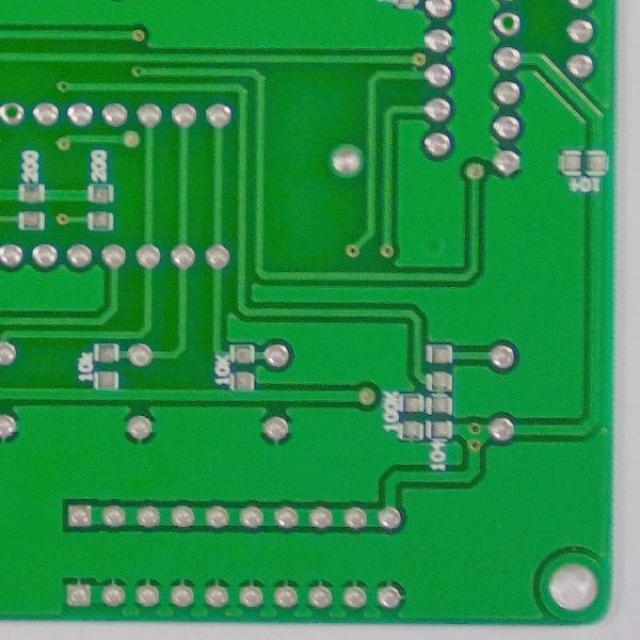Missing_Hole: (489, 8, 524, 36), (0, 99, 26, 127)
